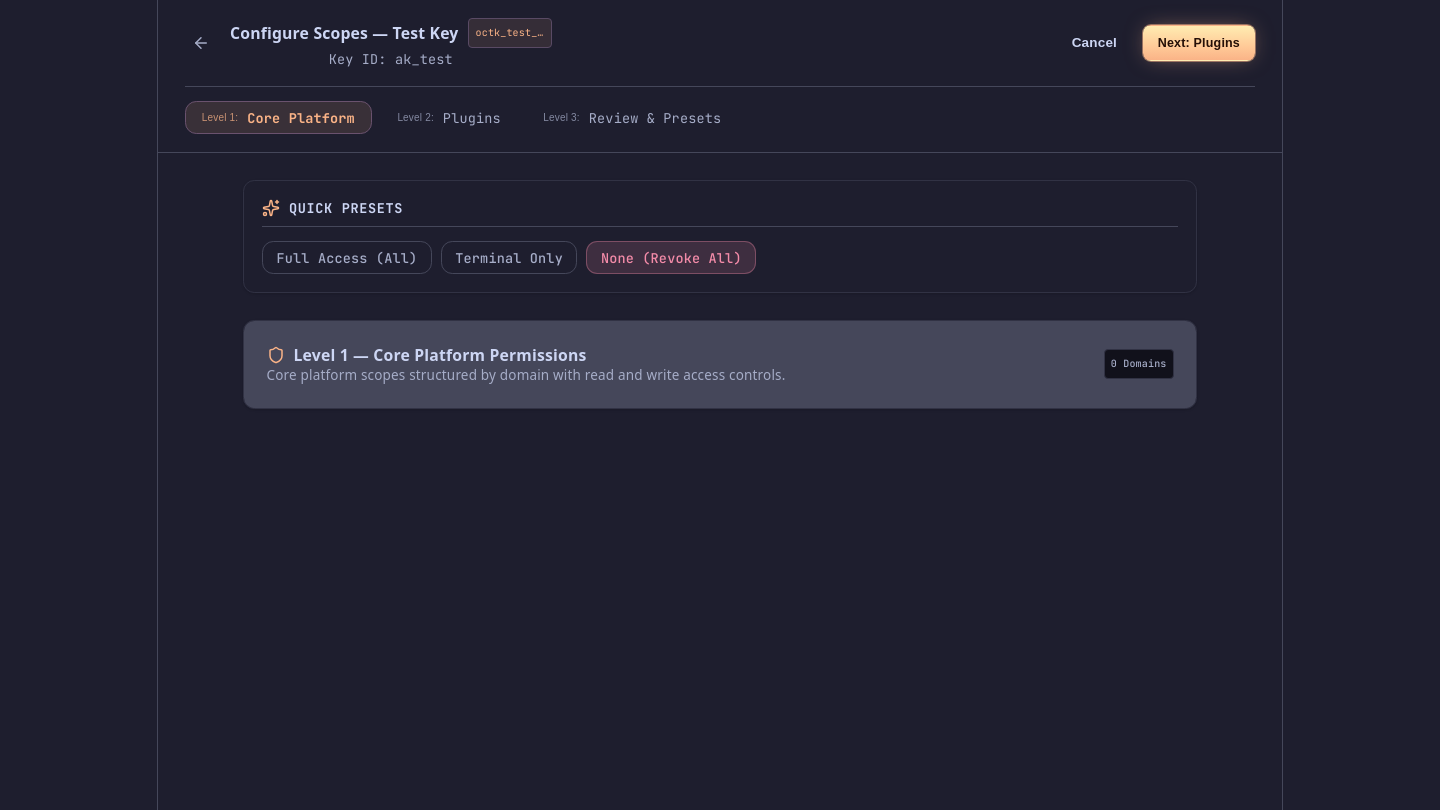
Test: ScopeConfigurator Component - 3-Pane Model › navigates to Pane 2 (Plugins) and displays plugin list and contributed tokens
The image size is (1440, 810).
# Click Next to navigate to Pane 2
Click the button "Next: Plugins".
click(1199, 43)  # box [1143,25,1255,61]
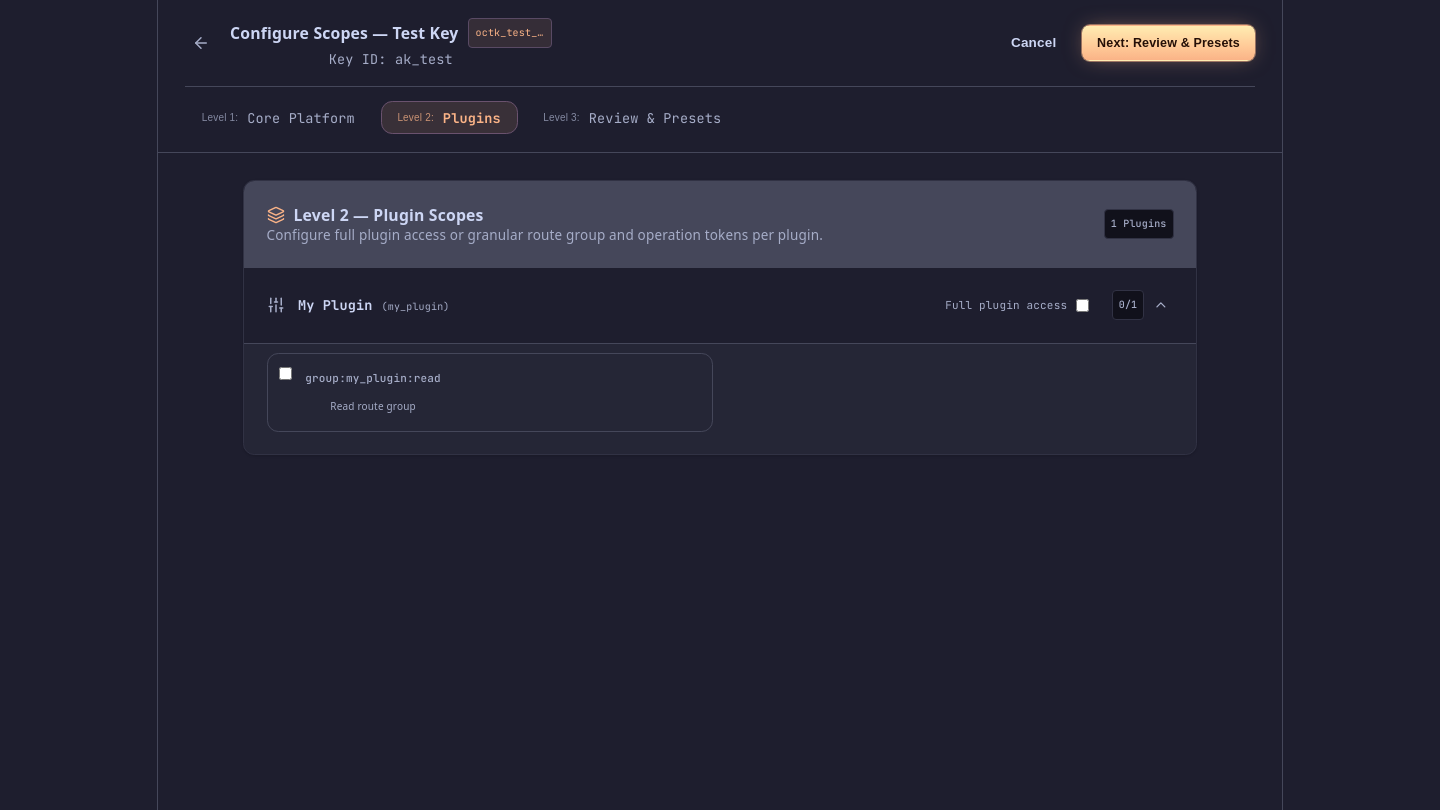
Expected: the heading "Level 2 — Plugin Scopes" is shown, [266,204,484,226]
Expected: the text "My Plugin" is shown, [298,296,372,314]
Expected: the text "group:my_plugin:read" is shown, [305,371,441,385]
